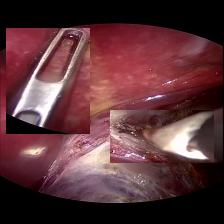Grasper: (6, 27, 90, 132)
Hook: (110, 109, 214, 162)
